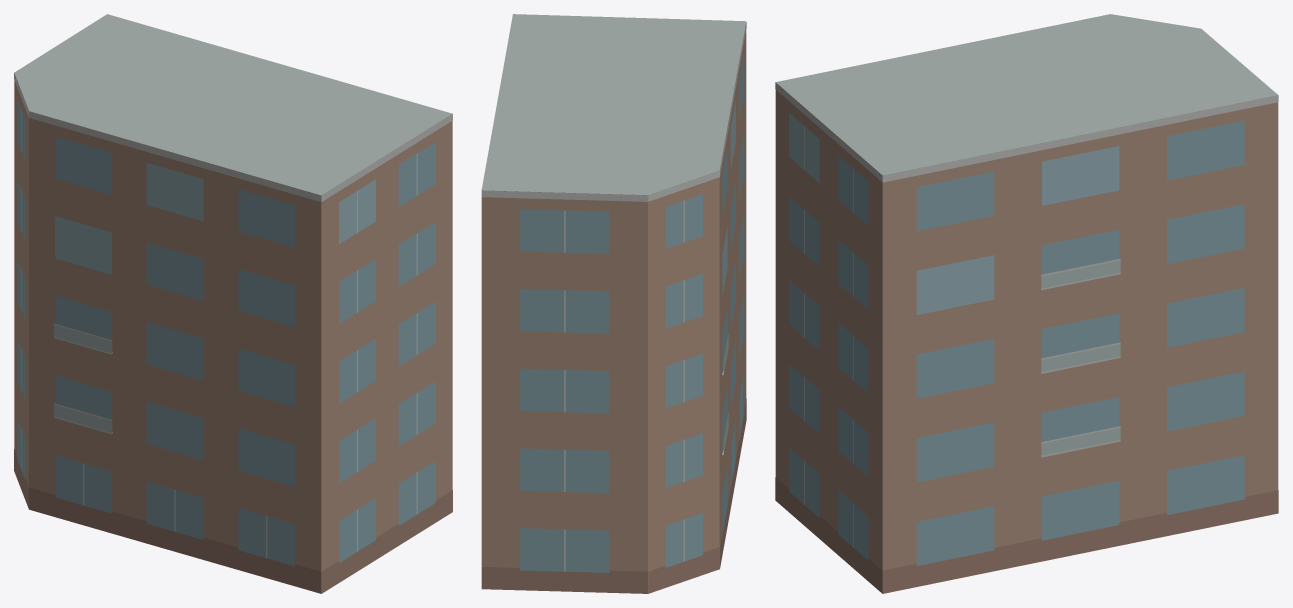
The model's file is survey-upis-32703211.glb.
The picture shows the model from 3 angles, left to right: view 1: azimuth 30°, elevation 25°; view 2: azimuth 150°, elevation 25°; view 3: azimuth 270°, elevation 25°; orthographic projection. The views are drawn at different scales.
Visible parts, largest first — view 1: survey-upis-32703211.tmp; view 2: survey-upis-32703211.tmp; view 3: survey-upis-32703211.tmp.
Part boxes in pixels (x1=…): survey-upis-32703211.tmp: x1=14, y1=14, x2=452, y2=593; survey-upis-32703211.tmp: x1=481, y1=14, x2=746, y2=593; survey-upis-32703211.tmp: x1=775, y1=14, x2=1278, y2=593.
Size of the model in its own units: 11.93 by 14.4 by 15.7.
